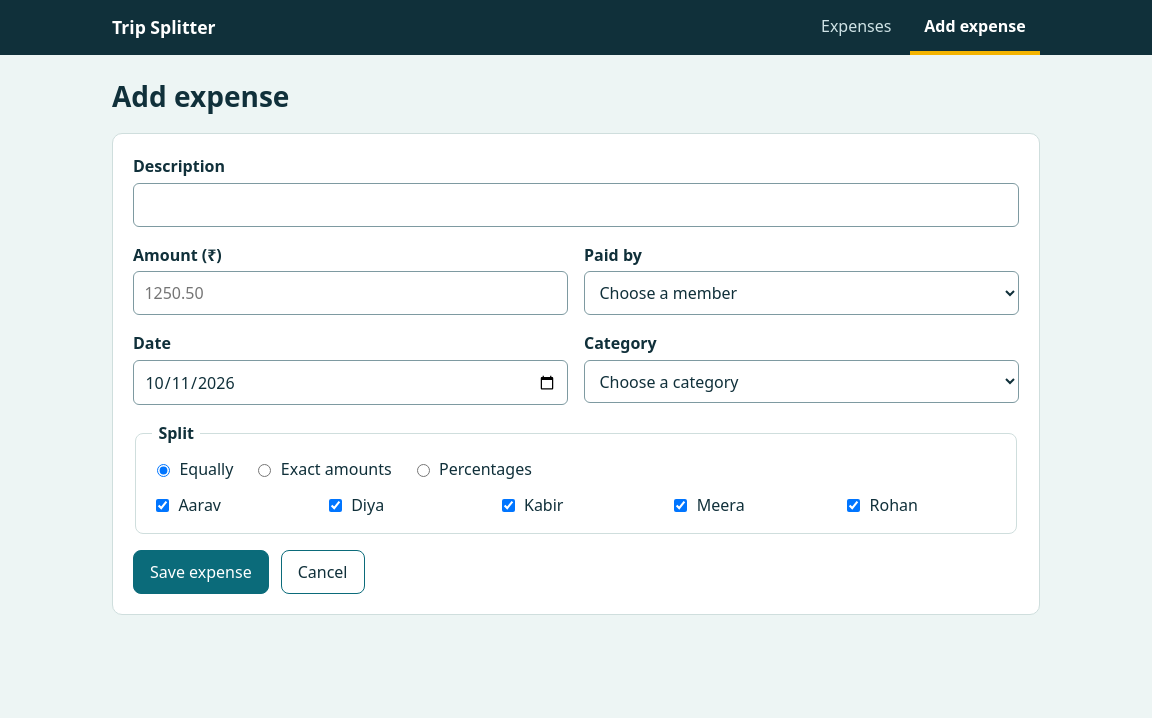
Scenario: Add expense form › shows the negative amount, future date and exact-split errors
Type "-5" into the field labelled "Amount (₹)" at (350, 293), box 133,271 -> 568,315
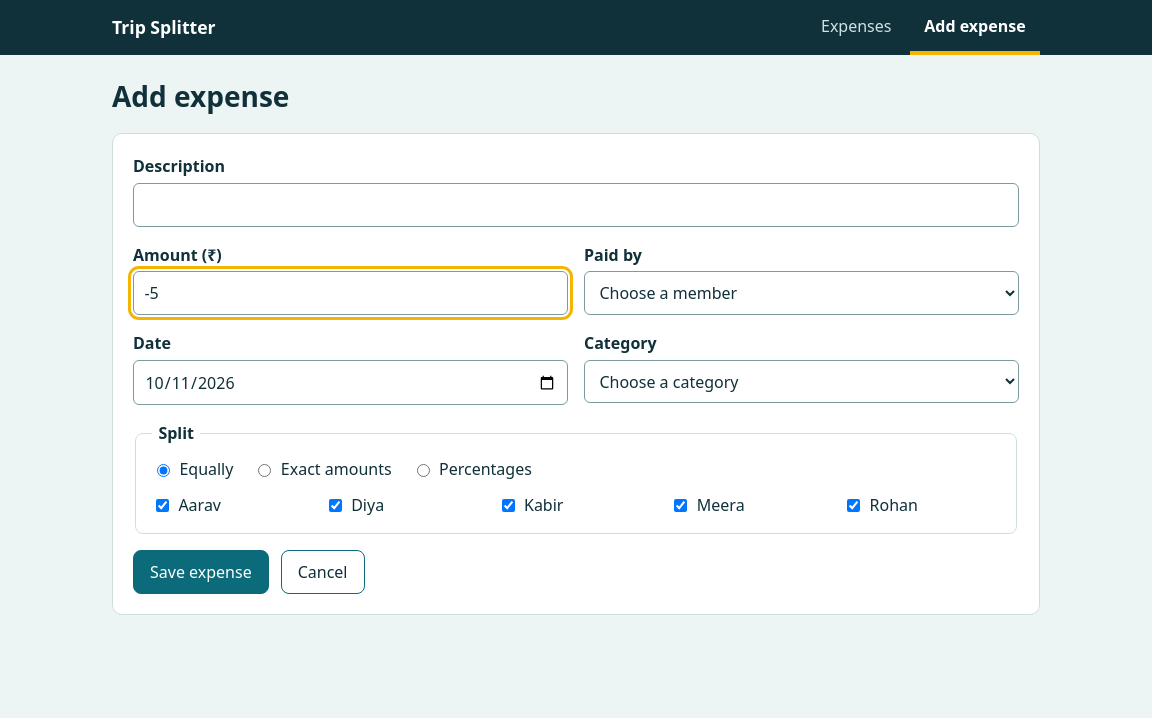
Type "2999-01-01" into the date field labelled "Date" at (350, 383), box 133,360 -> 568,405
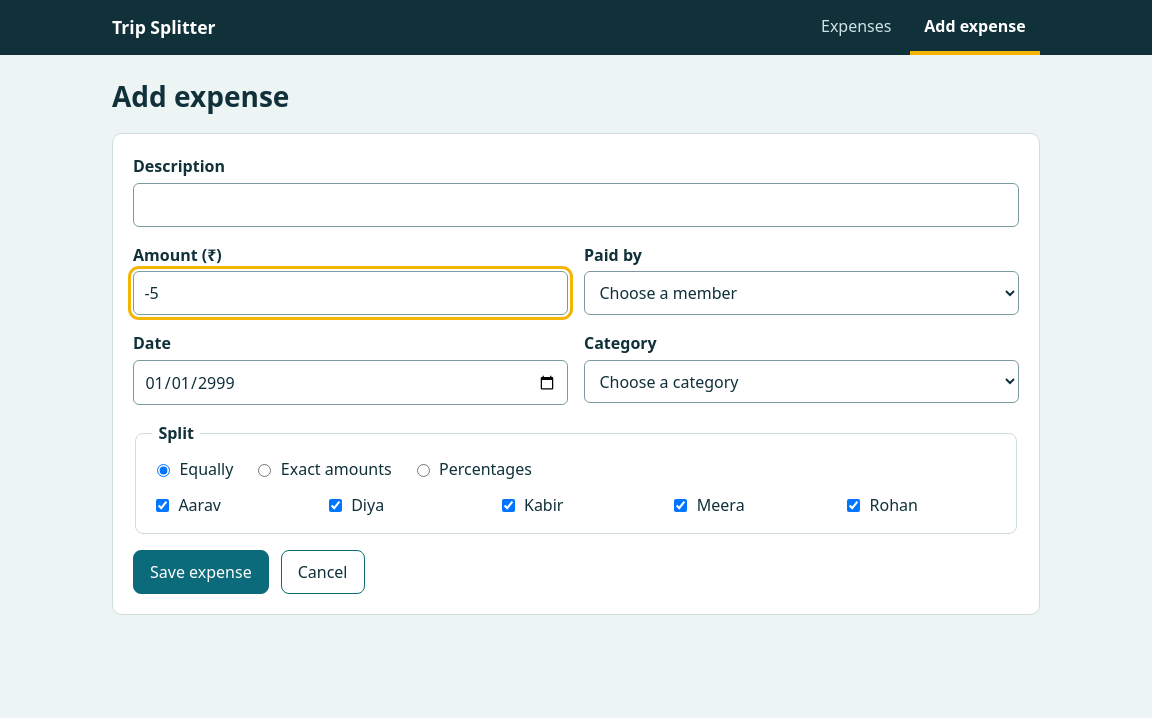
Click the radio button labelled "Exact amounts" at (265, 471), box 258,464 -> 271,477
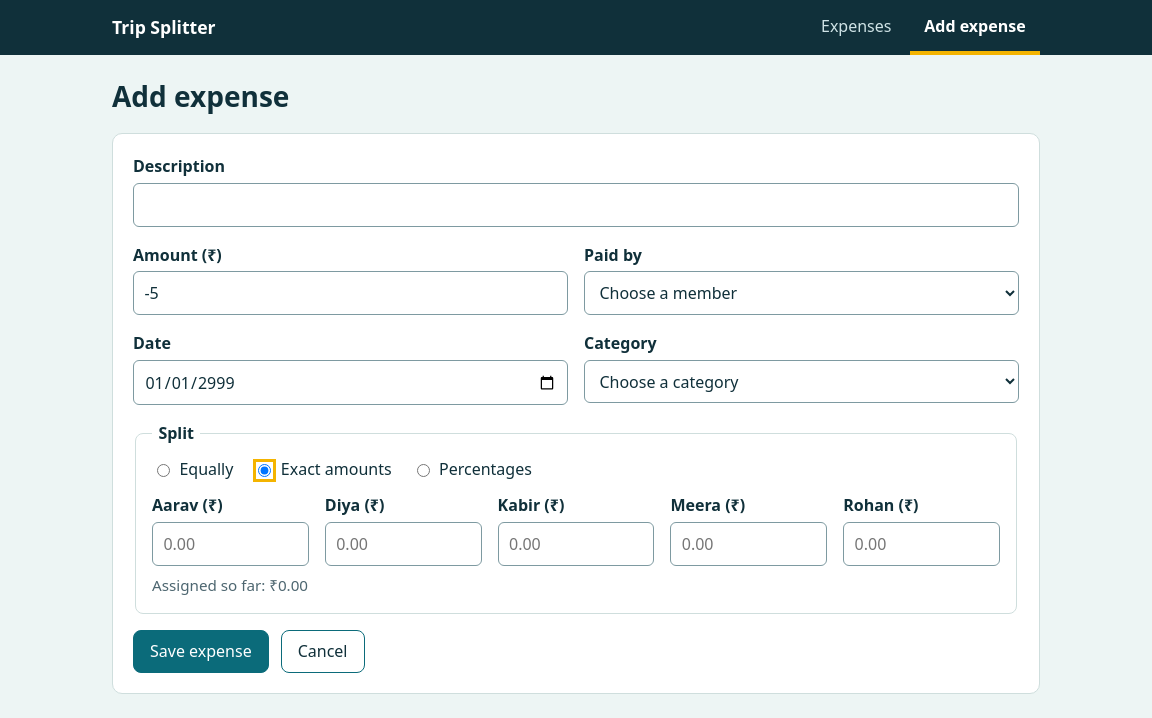
Type "1" into the field labelled "Aarav (₹)" at (230, 544), box 152,522 -> 309,566
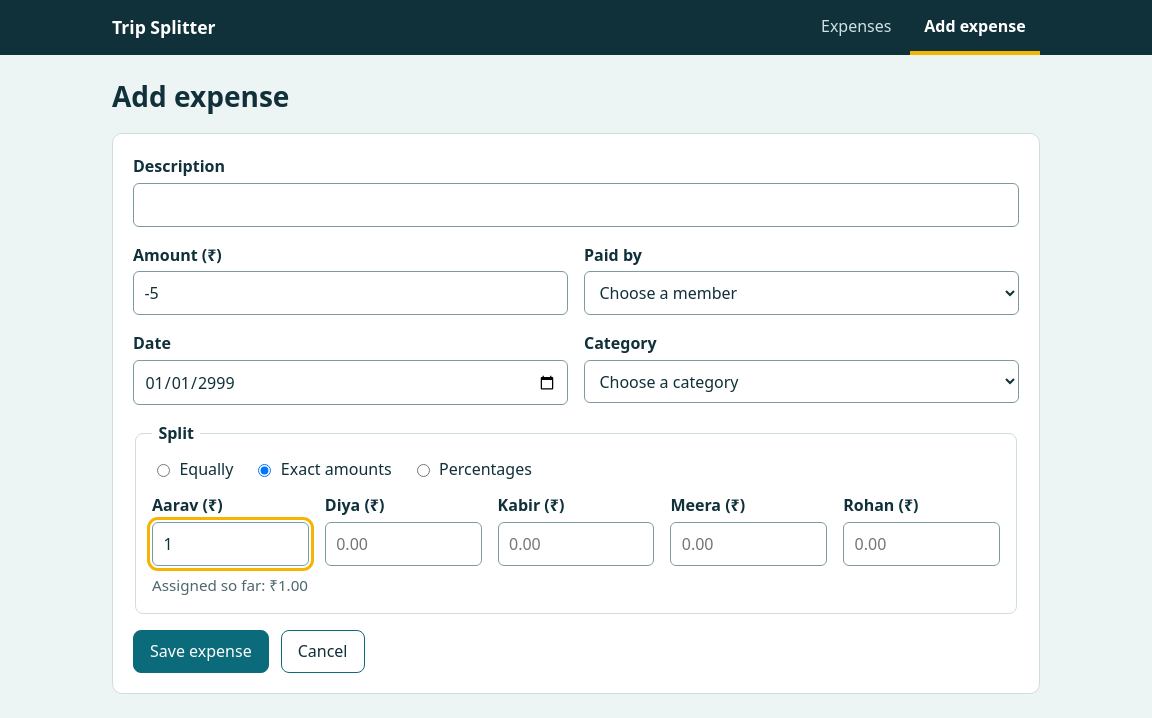
Click the button "Save expense" at (201, 651), box 133,630 -> 269,673
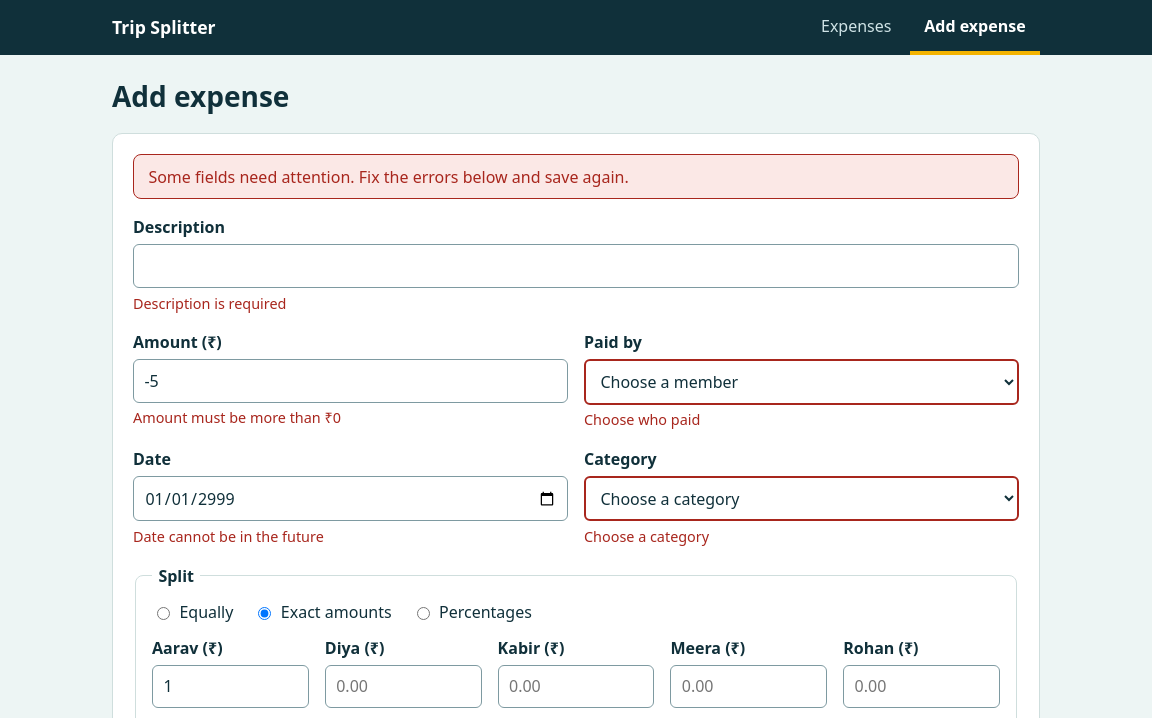
Check: the text "Amount must be more than ₹0" is shown, box 133,408 -> 341,427
Check: the text "Date cannot be in the future" is shown, box 133,527 -> 324,546
